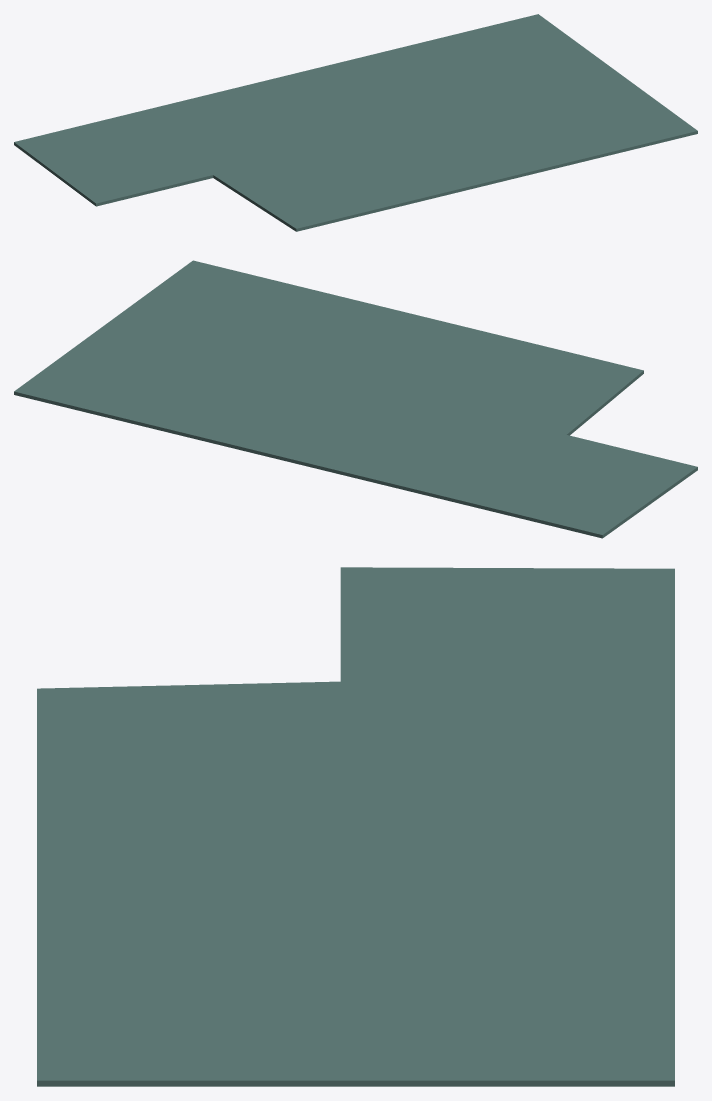
File: storage_floor.fbx
3 views of the same model, one above another, from view 1: azimuth 30°, elevation 25°; view 2: azimuth 150°, elevation 25°; view 3: azimuth 270°, elevation 25° (orthographic). The views are drawn at different scales.
Parts seen in each view (by area): view 1: Plane.007; view 2: Plane.007; view 3: Plane.007.
Boxes of the visible parts, x1,y1,x2,y2 form: Plane.007: (14,14,697,231); Plane.007: (14,260,697,538); Plane.007: (37,567,674,1086).
Bounding box in the file's own units: 1826 × 10 × 959.
